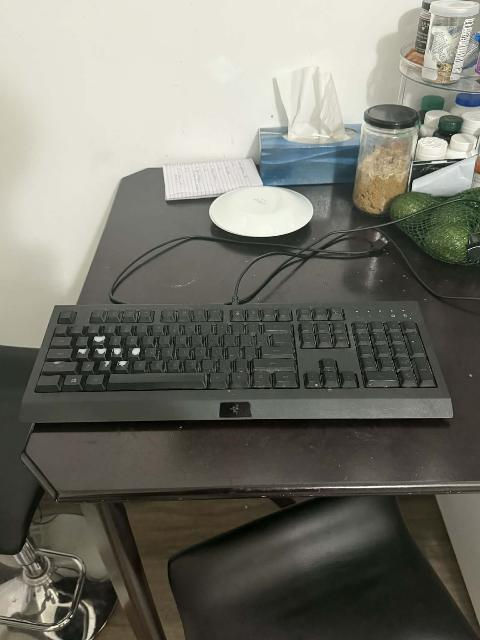ahkeyboard: (16, 293, 462, 442)
